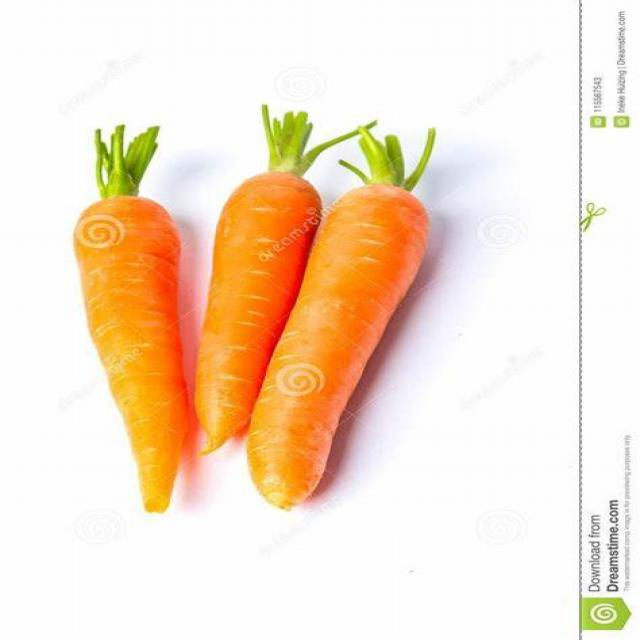Carrot: (247, 183, 443, 511), (68, 194, 183, 518), (203, 174, 322, 466)
